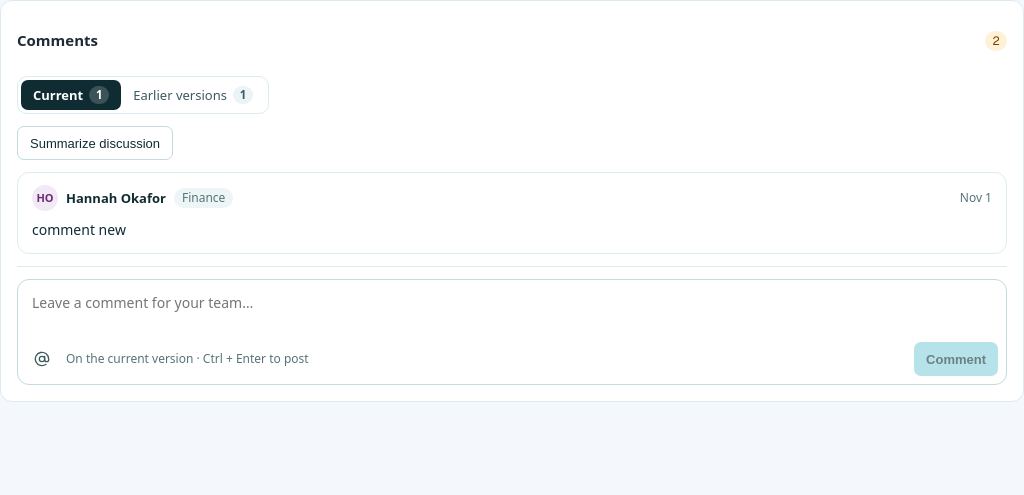
Test: CommentsPanel › keeps comments on older versions on their own tab, marked with their version
Expected: the number of elements with class "ne-comment" is 1, [17,172,1007,254]
Step 1. Click the button with class "ne-comment-tab" showing "Earlier versions 1" → (193, 95), box [121,80,265,110]
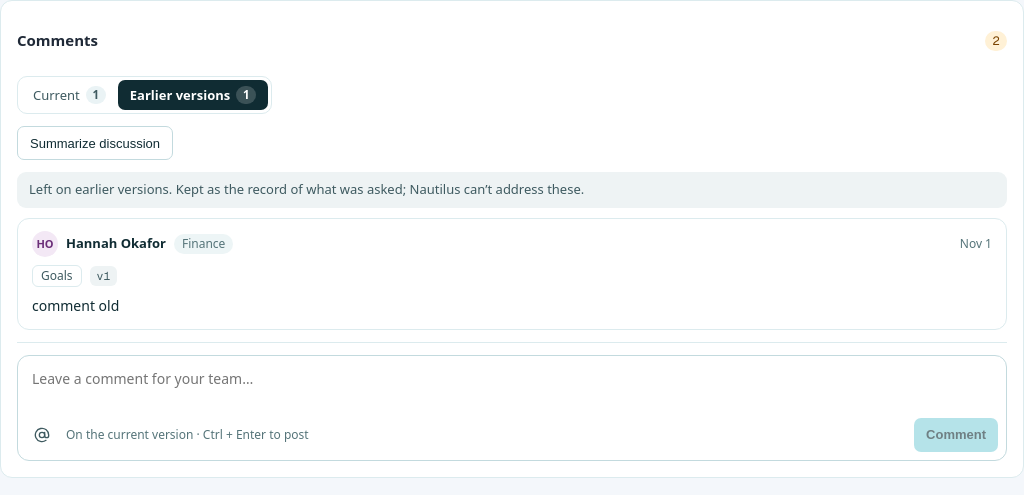
Now the text "Kept as the record of what was asked" is shown, box [29,180,584,198]
Now the text "Goals" is shown, box [32,265,82,287]
Now the text "v1" is shown, box [90,266,117,286]
